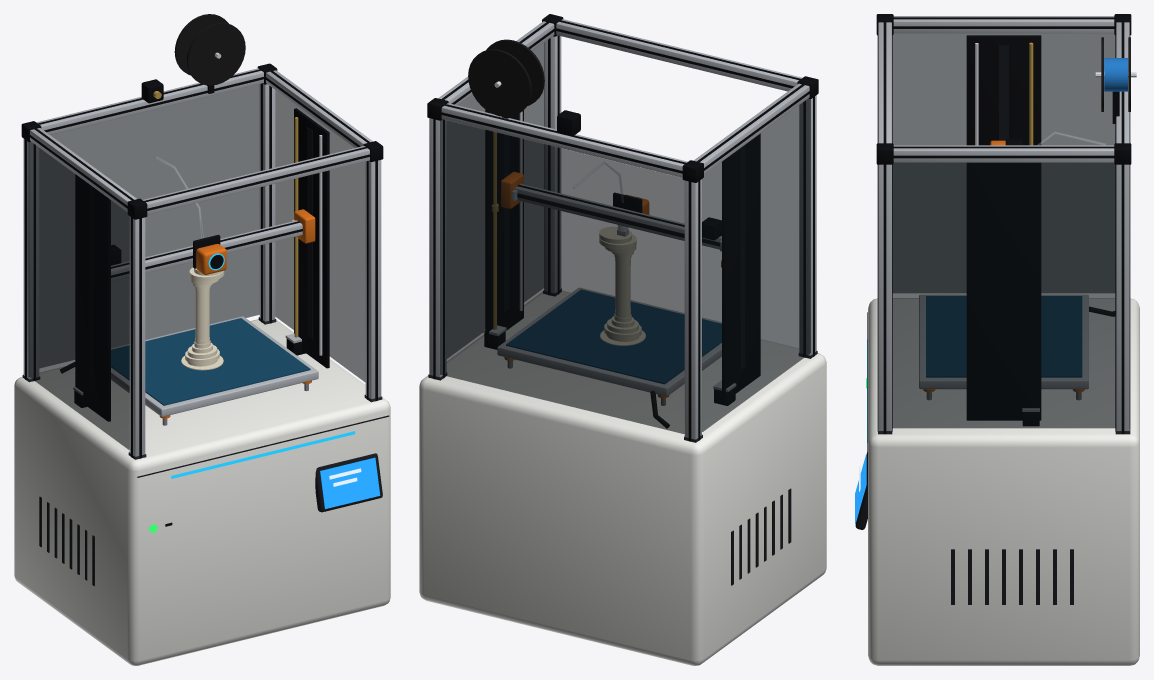
Rendered from printer_3d.glb.
The picture shows the model from 3 angles, left to right: view 1: azimuth 30°, elevation 25°; view 2: azimuth 150°, elevation 25°; view 3: azimuth 270°, elevation 25°; orthographic projection. The views are drawn at different scales.
Visible parts, largest first — view 1: printerBody, spoolBody, gantryBody, headBody; view 2: printerBody, spoolBody, gantryBody, headBody; view 3: printerBody, spoolBody.
Boxes of the visible parts, left/top/right/bottom form: printerBody: left=14, top=63, right=390, bottom=665; spoolBody: left=174, top=14, right=245, bottom=85; gantryBody: left=111, top=209, right=315, bottom=281; headBody: left=156, top=157, right=226, bottom=274; printerBody: left=419, top=14, right=826, bottom=665; spoolBody: left=468, top=39, right=544, bottom=116; gantryBody: left=492, top=172, right=721, bottom=267; headBody: left=613, top=193, right=648, bottom=236; printerBody: left=855, top=14, right=1139, bottom=665; spoolBody: left=1095, top=37, right=1136, bottom=111.
Size of the model in its own units: 1.01 by 1.92 by 0.8385.
21 materials, 2 textured.
